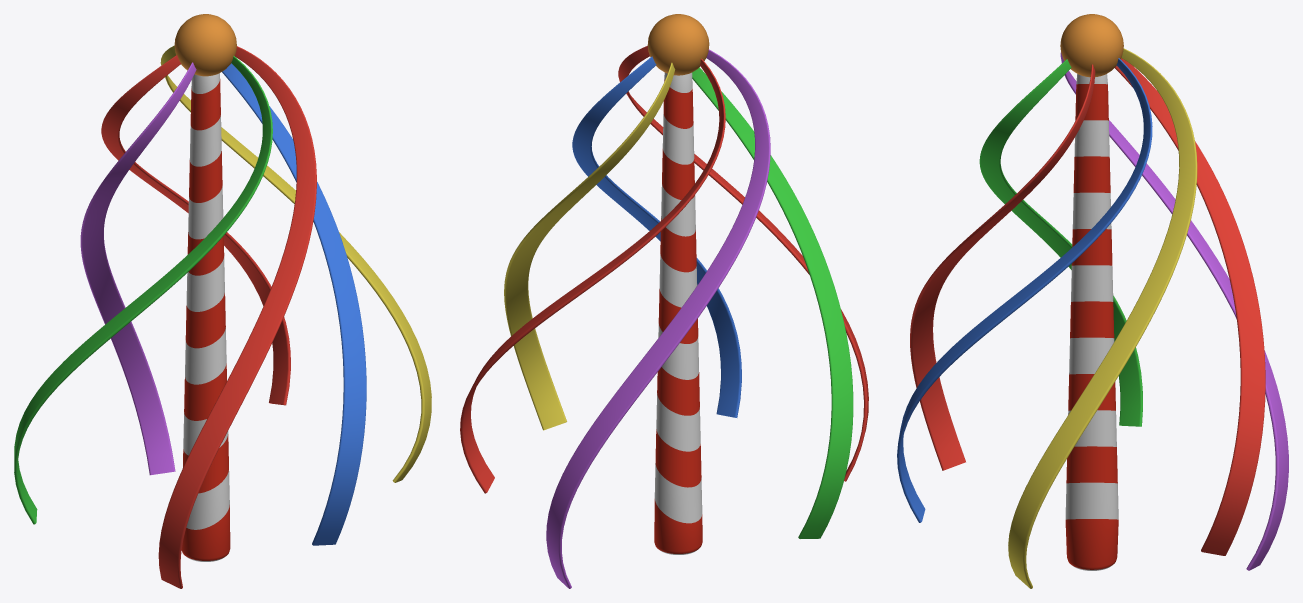
File: 25 Maypole.glb
3 renders of one model, left to right at view 1: azimuth 30°, elevation 25°; view 2: azimuth 150°, elevation 25°; view 3: azimuth 270°, elevation 25°, orthographic. The views are drawn at different scales.
Visible parts, largest first — view 1: Cylinder, NurbsPath, NurbsPath.004, NurbsPath.002, NurbsPath.003, NurbsPath.005, NurbsPath.001, Sphere; view 2: Cylinder, NurbsPath.002, NurbsPath.003, NurbsPath.001, NurbsPath.004, NurbsPath.005, Sphere, NurbsPath; view 3: Cylinder, NurbsPath.001, NurbsPath.005, NurbsPath, NurbsPath.004, NurbsPath.003, NurbsPath.002, Sphere.
Boxes of the visible parts, left/top/right/bottom form: Cylinder: left=181, top=73, right=230, bottom=561; NurbsPath: left=158, top=46, right=316, bottom=588; NurbsPath.004: left=222, top=63, right=366, bottom=545; NurbsPath.002: left=80, top=62, right=196, bottom=475; NurbsPath.003: left=14, top=56, right=272, bottom=524; NurbsPath.005: left=101, top=55, right=290, bottom=405; NurbsPath.001: left=160, top=45, right=431, bottom=482; Sphere: left=174, top=14, right=236, bottom=76; Cylinder: left=654, top=72, right=702, bottom=554; NurbsPath.002: left=546, top=49, right=770, bottom=588; NurbsPath.003: left=692, top=67, right=853, bottom=538; NurbsPath.001: left=504, top=62, right=675, bottom=430; NurbsPath.004: left=572, top=56, right=741, bottom=417; NurbsPath.005: left=460, top=58, right=725, bottom=493; Sphere: left=647, top=14, right=709, bottom=75; NurbsPath: left=618, top=46, right=868, bottom=481; Cylinder: left=1065, top=74, right=1118, bottom=570; NurbsPath.001: left=1008, top=48, right=1197, bottom=588; NurbsPath.005: left=1115, top=58, right=1265, bottom=555; NurbsPath: left=910, top=64, right=1095, bottom=470; NurbsPath.004: left=897, top=58, right=1152, bottom=522; NurbsPath.003: left=979, top=59, right=1142, bottom=426; NurbsPath.002: left=1060, top=52, right=1288, bottom=570; Sphere: left=1060, top=14, right=1123, bottom=77.
Bounding box in the file's own units: 1.42 × 1.92 × 1.25.
